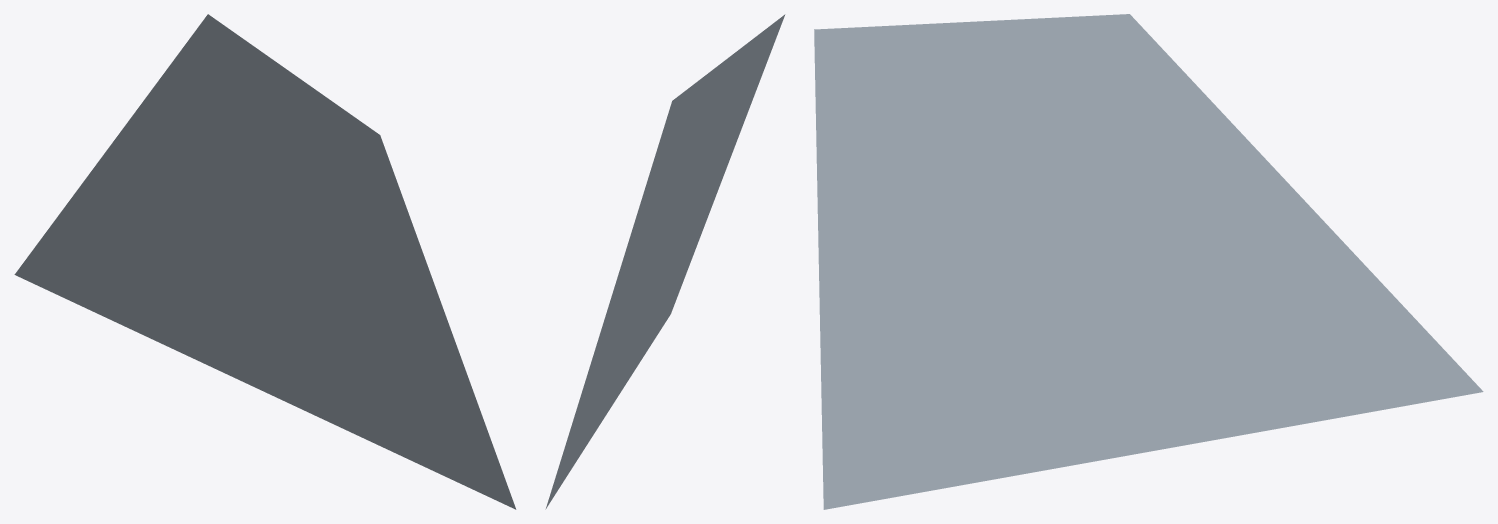
Rendered from dorsal-calcaneocuboid-ligament-l.glb.
3 views of the same model, side by side, from view 1: azimuth 30°, elevation 25°; view 2: azimuth 150°, elevation 25°; view 3: azimuth 270°, elevation 25° (orthographic). The views are drawn at different scales.
Visible parts, largest first — view 1: Dorsal calcaneocuboid ligament.l; view 2: Dorsal calcaneocuboid ligament.l; view 3: Dorsal calcaneocuboid ligament.l.
Boxes of the visible parts, <box> form: Dorsal calcaneocuboid ligament.l: <box>14,14,516,509</box>; Dorsal calcaneocuboid ligament.l: <box>545,14,785,509</box>; Dorsal calcaneocuboid ligament.l: <box>814,14,1483,509</box>.
Bounding box in the file's own units: 0.00312 × 0.00734 × 0.0106.
